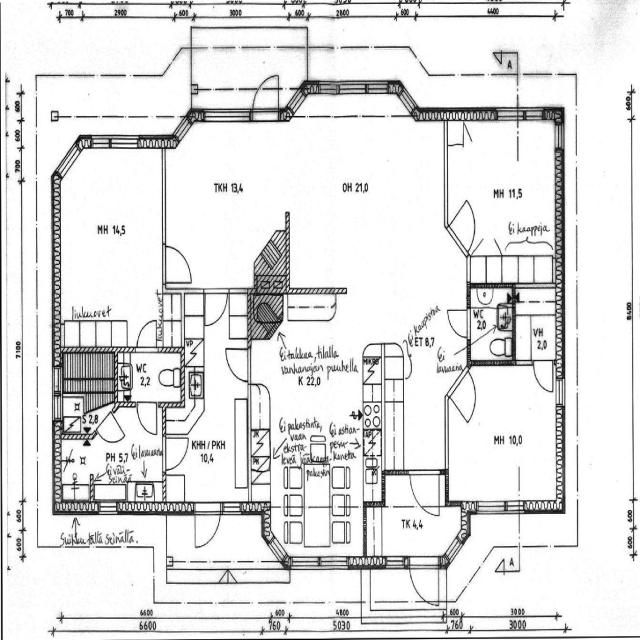door: (407, 466, 445, 516), (161, 238, 196, 287), (408, 557, 441, 607), (192, 503, 222, 551), (250, 73, 281, 119), (451, 370, 478, 421), (201, 285, 230, 330), (160, 431, 190, 474), (452, 199, 478, 248), (223, 344, 253, 384), (134, 398, 161, 438), (444, 304, 472, 340), (133, 314, 161, 350), (532, 358, 555, 394), (453, 223, 476, 256)
window: (289, 554, 345, 574), (201, 105, 250, 126), (59, 138, 80, 172), (107, 131, 141, 151), (475, 498, 509, 516), (335, 79, 370, 96), (90, 131, 115, 150), (383, 553, 408, 571), (319, 555, 347, 571), (220, 500, 244, 518), (365, 78, 389, 95), (96, 500, 121, 516), (555, 120, 567, 153), (496, 107, 521, 122), (523, 106, 544, 122)
zone: (287, 103, 440, 304), (56, 140, 166, 348), (165, 118, 282, 288), (250, 323, 384, 462), (446, 361, 561, 507), (450, 119, 561, 260), (56, 402, 166, 504), (276, 459, 360, 557), (120, 348, 184, 405), (514, 286, 562, 362), (468, 284, 514, 363), (55, 448, 91, 510), (285, 290, 338, 324), (56, 393, 90, 438)
